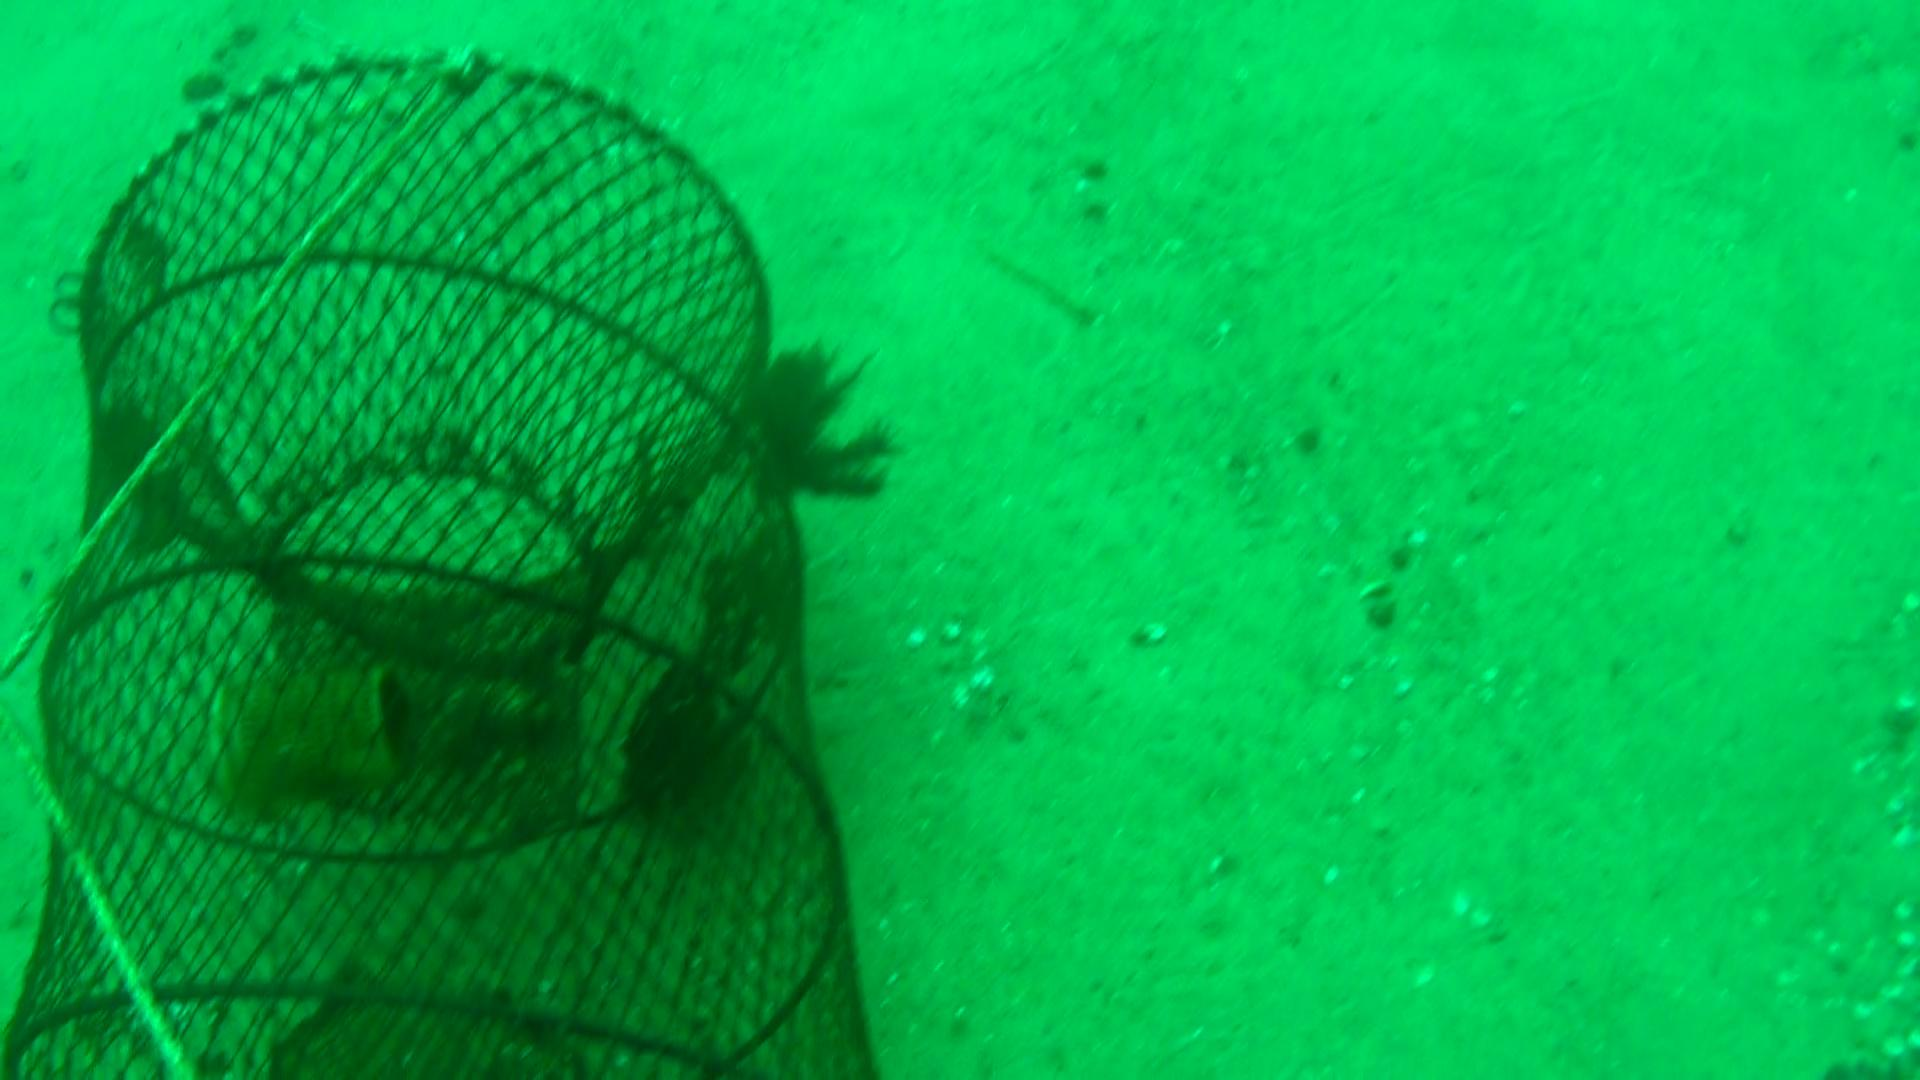spring fish trap: (0, 53, 882, 1080)
